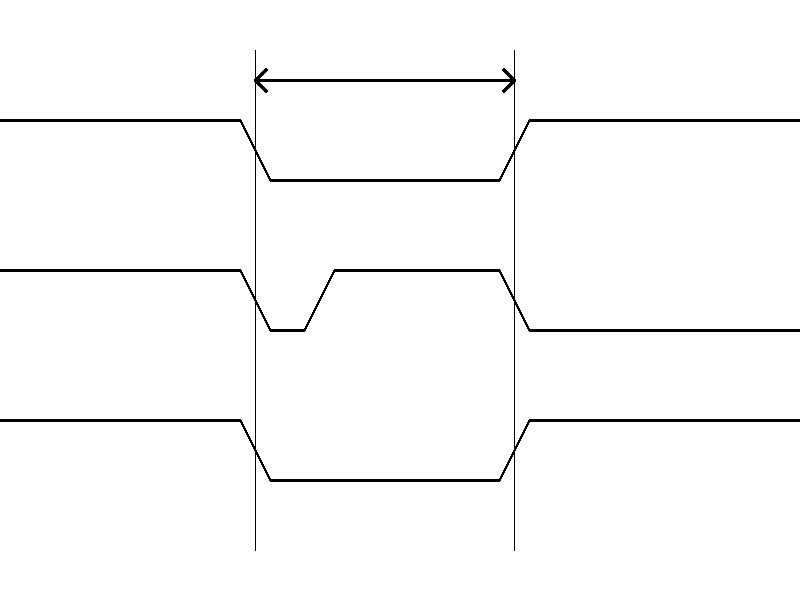double_arrow: (255, 65, 514, 95)
